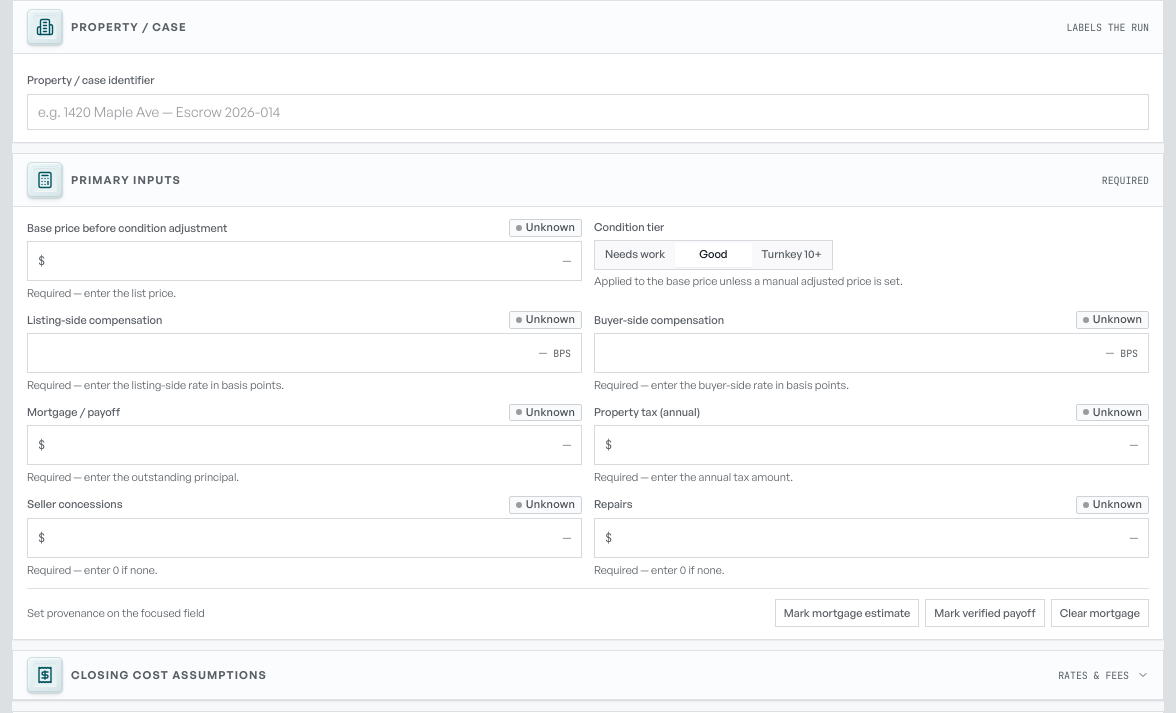
Scenario: provenance chip observable state › moves the chip to ESTIMATE then VERIFIED_PAYOFF via the field actions
In the field with test id "inputs.mortgage_balance": (311, 445) [51,426,571,464], type "300000"
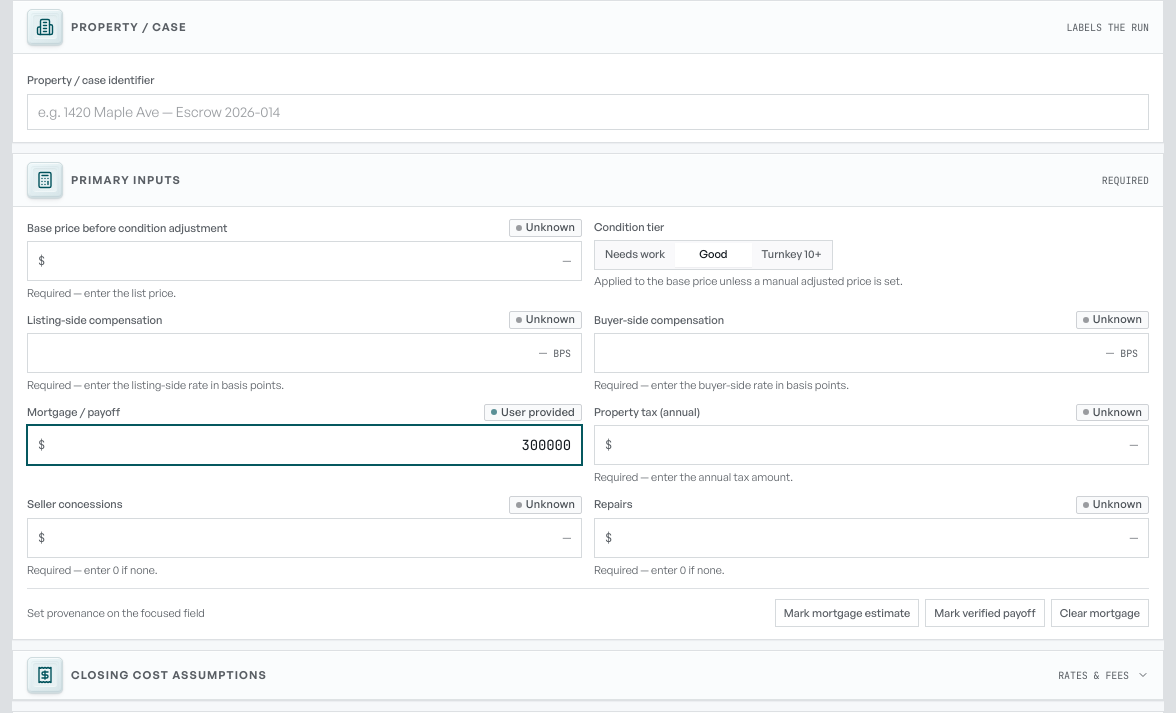
Click the button with test id "inputs.mark_estimate_button": (847, 613) [775,599,919,627]
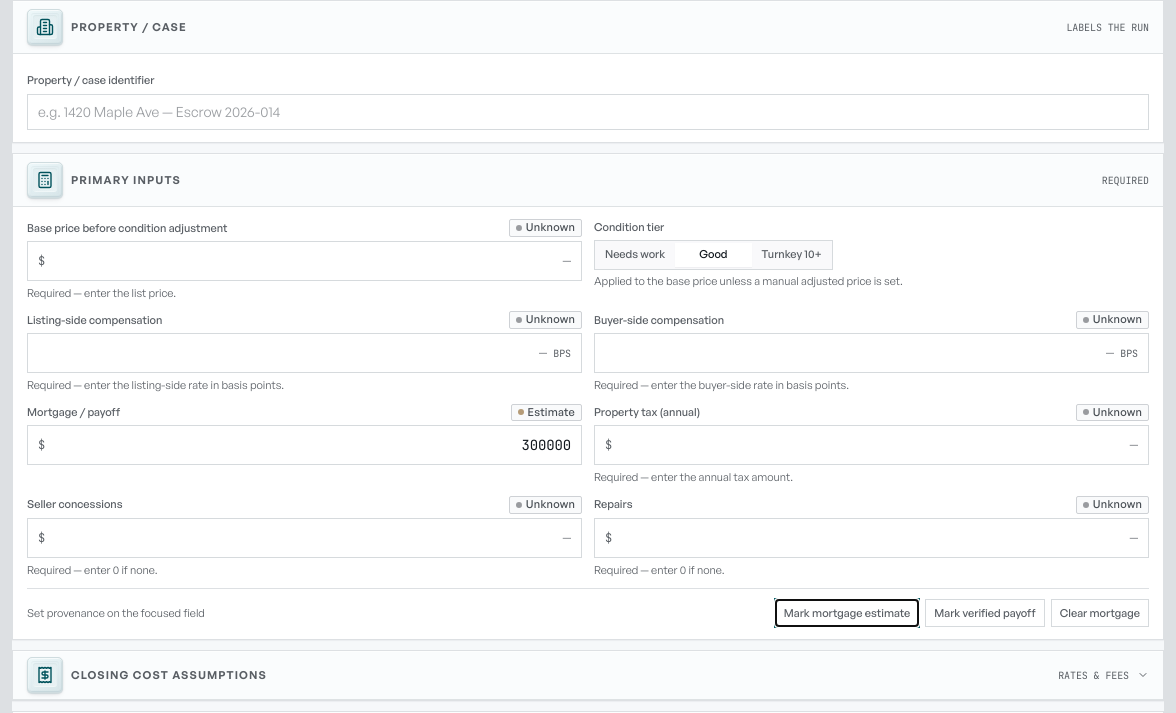
Expected: the element showing "Estimate" is shown, [511,404,582,421]
Click the button with test id "inputs.mark_verified_button": (985, 613) [925,599,1045,627]
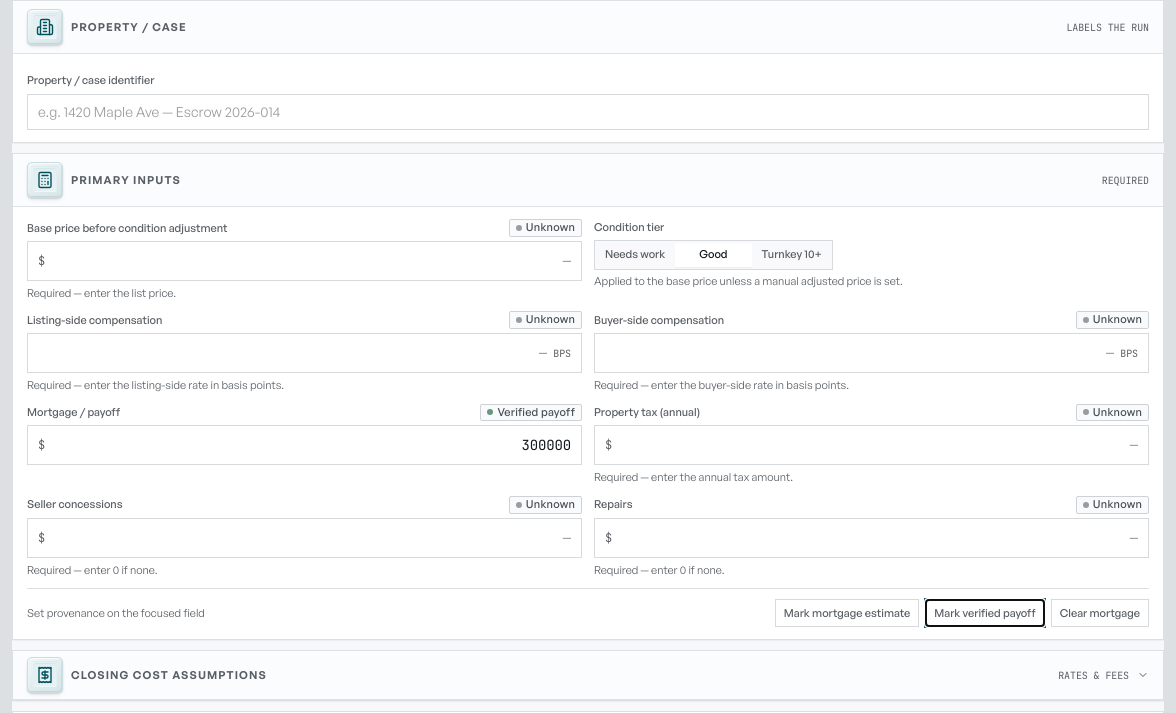
Expected: the element showing "Verified payoff" is shown, [480,404,582,421]
